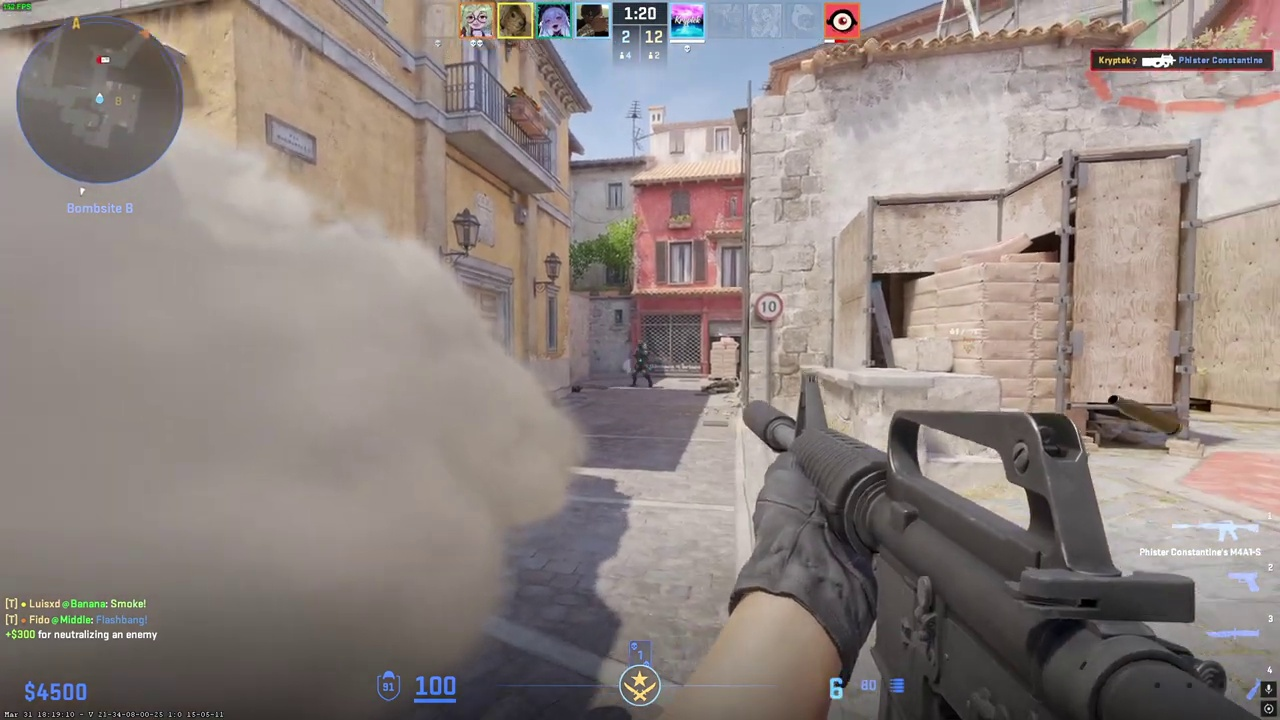CT: (630, 345, 652, 388)
